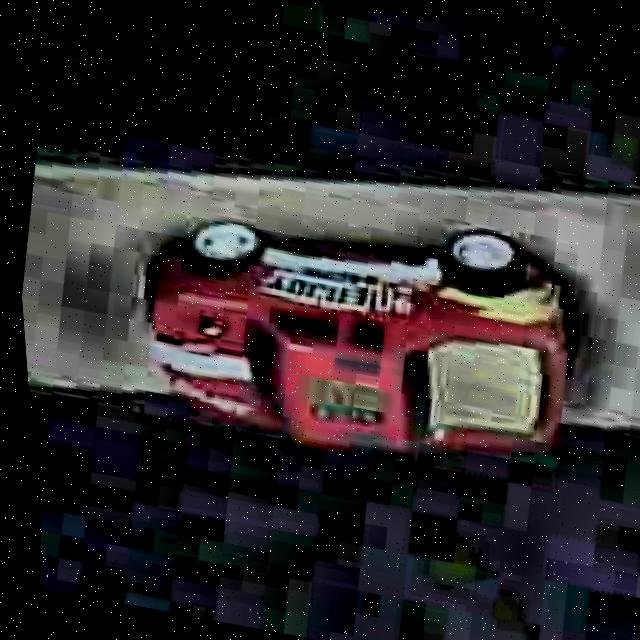car: (103, 163, 603, 498)
